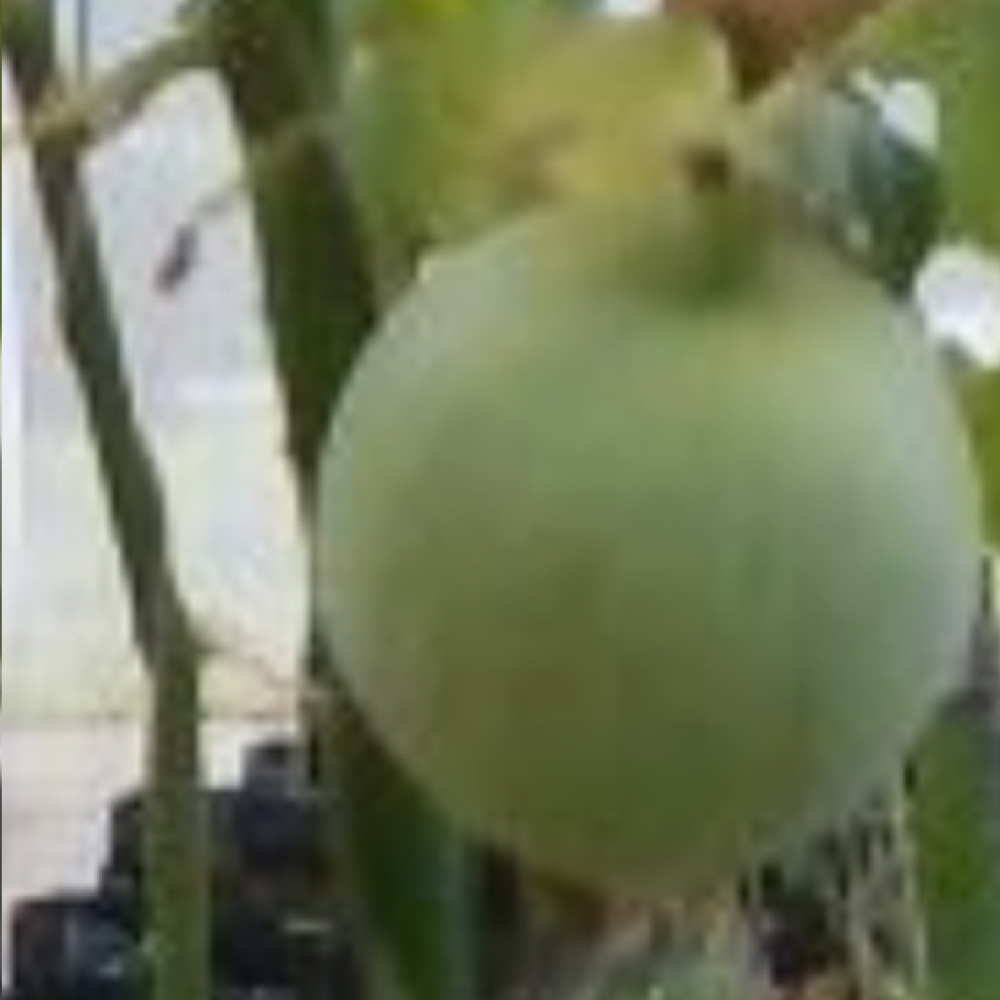melon: (302, 177, 984, 914)
